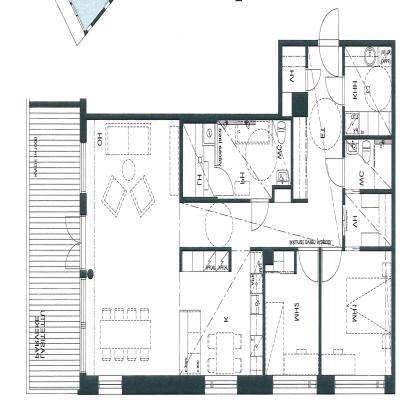door: (318, 5, 342, 77), (64, 210, 88, 272), (320, 242, 344, 284), (297, 243, 321, 284), (325, 153, 347, 190), (249, 198, 270, 234), (324, 74, 347, 106), (304, 65, 322, 92)
window: (333, 370, 387, 398), (272, 370, 319, 398), (202, 372, 240, 398), (96, 371, 126, 398)
